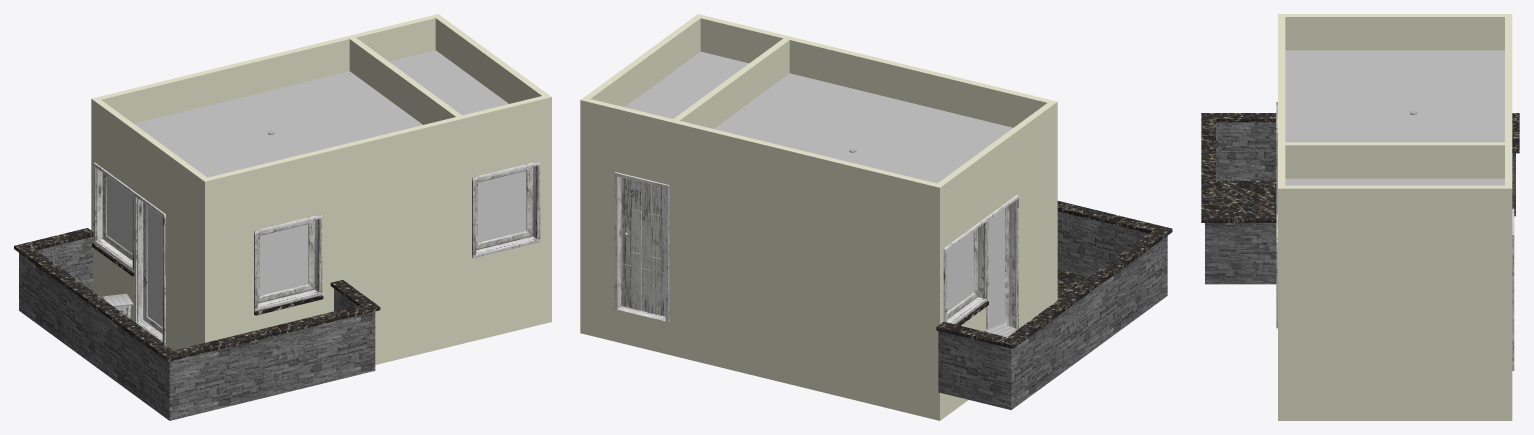
File: Room1.fbx
3 views of the same model, side by side, from view 1: azimuth 30°, elevation 25°; view 2: azimuth 150°, elevation 25°; view 3: azimuth 270°, elevation 25° (orthographic). The views are drawn at different scales.
Visible parts, largest first — view 1: Wall, Balcony wall, Floor.002, Balcony rimm, Cube.067, Cube.004, Floor.003, Cube, Main Door.002, Cube.002, Main Door.004, Main Door.007 (+1 smaller); view 2: Wall, Balcony wall, Floor.002, Main Door.005, Balcony rimm, Floor.003, Cube, Main Door.006, Cube.002, Main Door.002, Main Door.003; view 3: Wall, Floor.002, Balcony wall, Balcony rimm, Plane.001, Floor.003, Main Door.006.
Part boxes in pixels (x1,y1,x2,y2): Wall: (91,14,551,364); Balcony wall: (19,237,375,420); Floor.002: (134,71,422,177); Balcony rimm: (14,228,380,361); Cube.067: (257,220,314,303); Cube.004: (476,166,532,249); Floor.003: (389,50,508,115); Cube: (143,202,162,333); Main Door.002: (134,192,165,344); Cube.002: (102,173,132,260); Main Door.004: (254,214,322,311); Main Door.007: (472,161,540,258); Wall: (580,14,1057,420); Balcony wall: (938,211,1167,409); Floor.002: (714,73,1012,183); Main Door.005: (622,177,665,316); Balcony rimm: (936,201,1172,348); Floor.003: (625,51,748,118); Cube: (989,205,1009,327); Main Door.006: (614,172,669,322); Cube.002: (947,228,977,319); Main Door.002: (986,195,1018,329); Main Door.003: (943,217,987,324); Wall: (1278,14,1512,420); Floor.002: (1285,50,1504,142); Balcony wall: (1205,122,1515,284); Balcony rimm: (1201,113,1519,222); Plane.001: (1216,180,1276,213); Floor.003: (1285,178,1504,185); Main Door.006: (1512,208,1514,370).
Bounding box in the file's own units: 1370 × 700 × 870.
